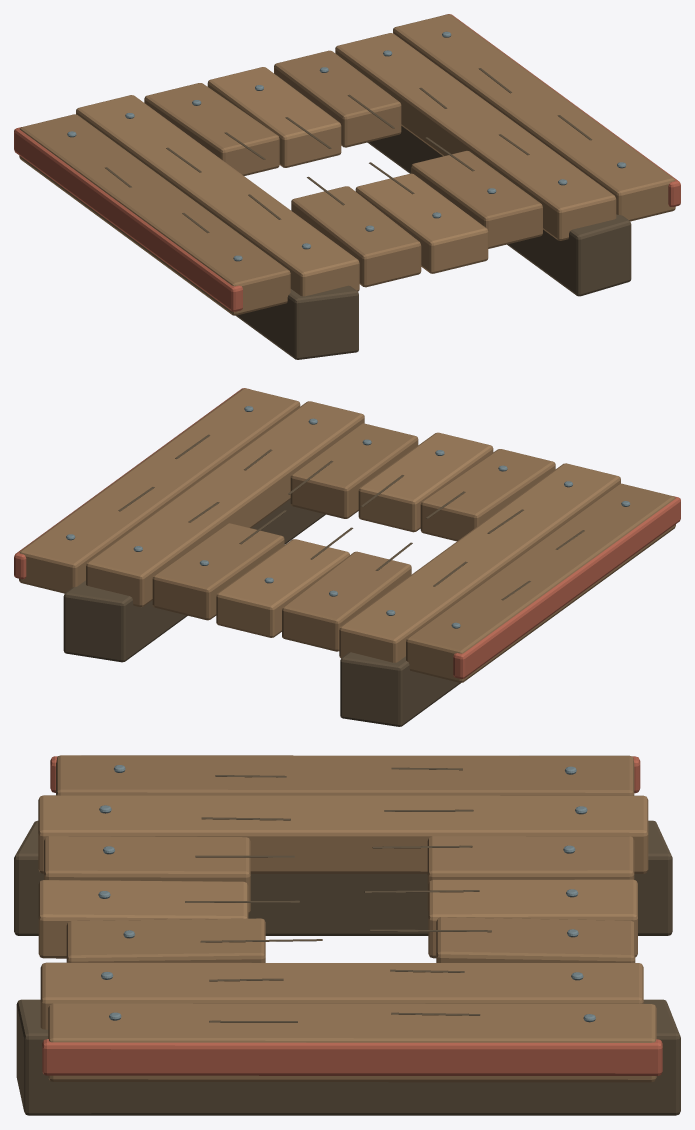
The model's file is deck-damaged.glb.
3 renders of one model, top to bottom at view 1: azimuth 30°, elevation 25°; view 2: azimuth 150°, elevation 25°; view 3: azimuth 270°, elevation 25°, orthographic. The views are drawn at different scales.
Visible parts, largest first — view 1: GEO-deck-damaged-540, GEO-deck-damaged-864, GEO-deck-damaged-108, GEO-deck-damaged-1148; view 2: GEO-deck-damaged-540, GEO-deck-damaged-864, GEO-deck-damaged-108, GEO-deck-damaged-1148; view 3: GEO-deck-damaged-540, GEO-deck-damaged-864, GEO-deck-damaged-108, GEO-deck-damaged-1148.
Part boxes in pixels (x1,y1,x2,y2): GEO-deck-damaged-540: (19, 14, 675, 315); GEO-deck-damaged-864: (105, 68, 631, 359); GEO-deck-damaged-108: (14, 14, 680, 311); GEO-deck-damaged-1148: (67, 31, 626, 261); GEO-deck-damaged-540: (19, 388, 675, 682); GEO-deck-damaged-864: (63, 434, 584, 726); GEO-deck-damaged-108: (14, 388, 680, 678); GEO-deck-damaged-1148: (66, 406, 630, 628); GEO-deck-damaged-540: (38, 755, 656, 1082); GEO-deck-damaged-864: (14, 767, 680, 1115); GEO-deck-damaged-108: (42, 756, 662, 1075); GEO-deck-damaged-1148: (98, 765, 595, 1022).
Bounding box in the file's own units: 2.28 × 0.4388 × 2.21.
